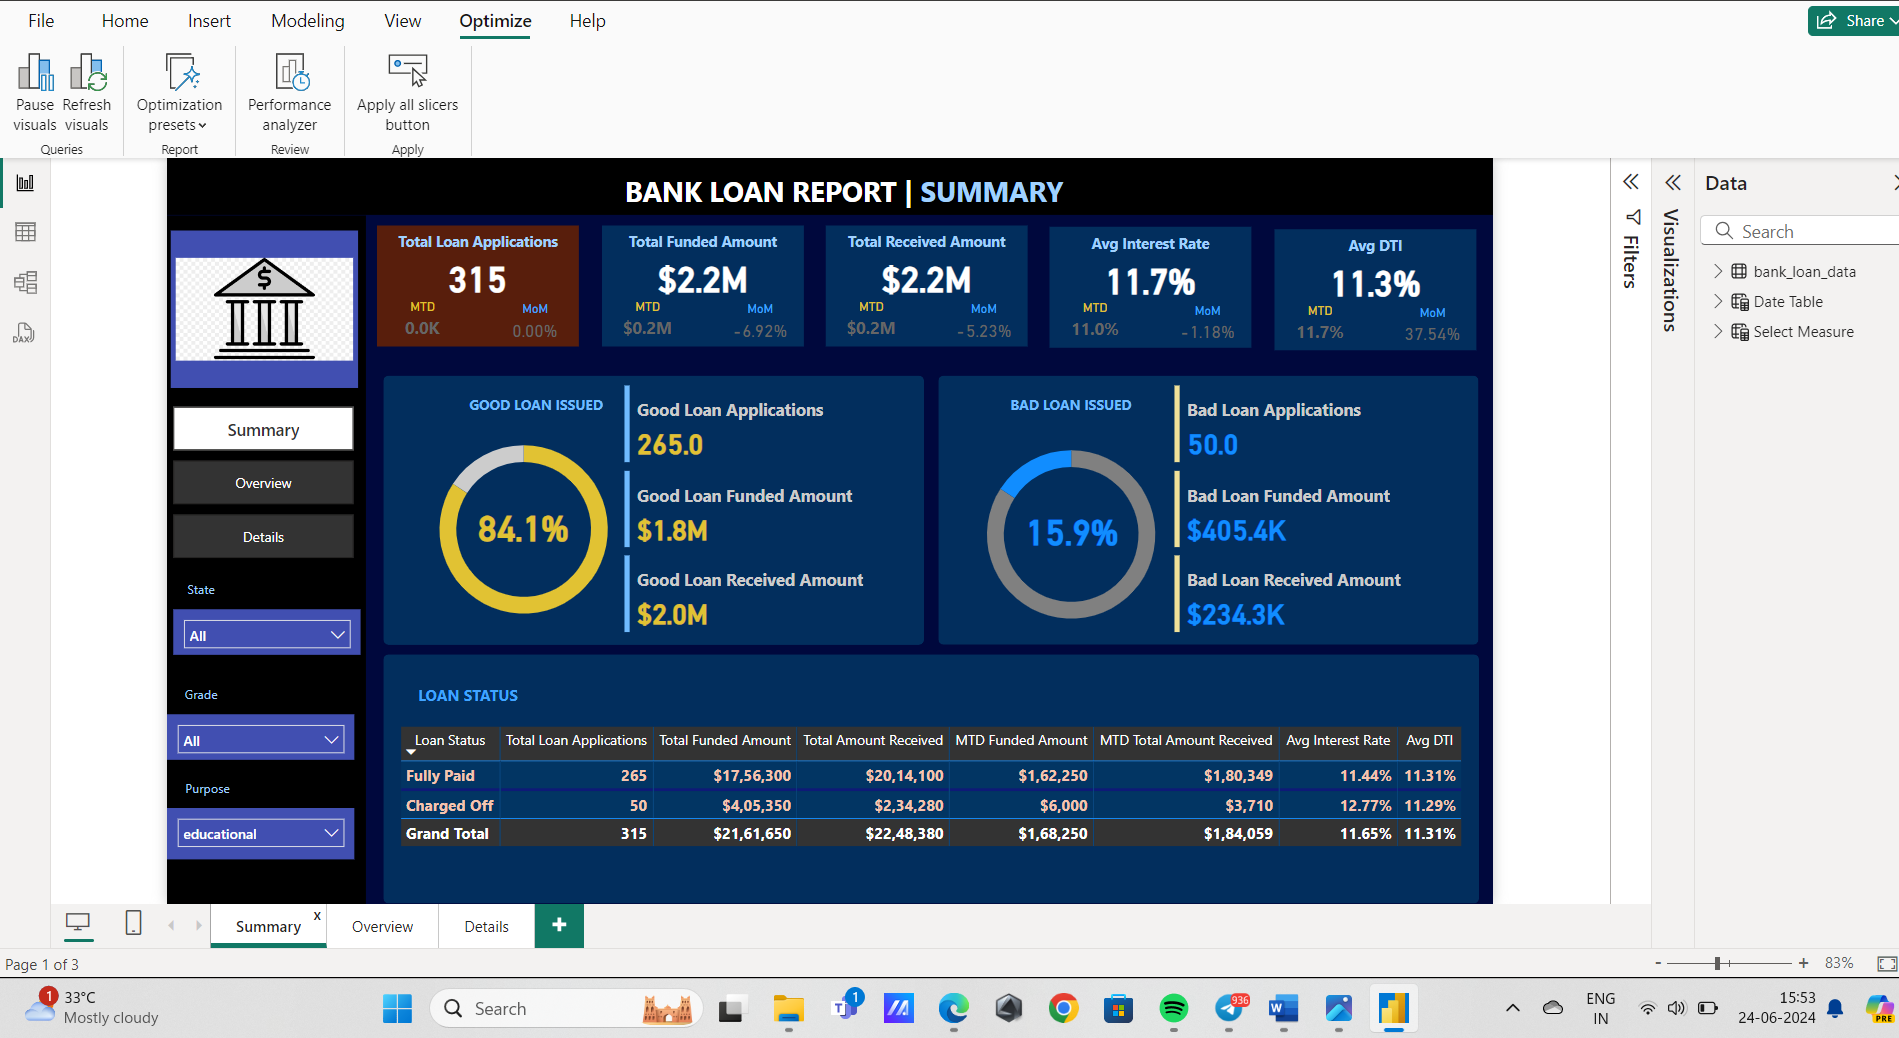

This screenshot's page, from the dashboard's own definition file:
{"tool":"powerbi","page":{"name":"Summary","canvas":[1280,720],"ordinal":0},"visuals":[{"type":"shape","box":[202.8,64.6,194.8,116.9],"z":0,"group":"g1"},{"type":"shape","box":[635.7,64.6,194.8,116.9],"z":0,"group":"g3"},{"type":"shape","box":[419.3,65.5,194.8,116.9],"z":0,"group":"g2"},{"type":"shape","box":[852.2,66.8,194.8,116.9],"z":0,"group":"g4"},{"type":"shape","box":[1068.6,68.6,194.8,116.9],"z":0,"group":"g5"},{"type":"shape","box":[208.6,210.4,522,260],"z":0},{"type":"shape","box":[0.3,0,1279.7,54.9],"z":1000},{"type":"card","fields":{"Values":["bank_loan_data.Total Loan Applications"]},"box":[202.8,85,194.8,59.3],"z":1000,"group":"g1"},{"type":"card","fields":{"Values":["bank_loan_data.Total Amount Received"]},"box":[635.7,85,194.8,59.3],"z":1000,"group":"g3"},{"type":"card","fields":{"Values":["bank_loan_data.Total Funded Amount"]},"box":[419.3,85.9,194.8,59.3],"z":1000,"group":"g2"},{"type":"card","fields":{"Values":["bank_loan_data.Avg Interest Rate"]},"box":[852.2,87.2,194.8,59.3],"z":1000,"group":"g4"},{"type":"card","fields":{"Values":["bank_loan_data.Avg DTI"]},"box":[1068.6,89,194.8,59.3],"z":1000,"group":"g5"},{"type":"shape","box":[0,54.9,192.1,665.2],"z":2000},{"type":"textbox","box":[202.8,65.5,194.8,38.1],"z":2000,"group":"g1"},{"type":"textbox","box":[635.7,65.5,194.8,38.1],"z":2000,"group":"g3"},{"type":"textbox","box":[419.3,66.4,194.8,38.1],"z":2000,"group":"g2"},{"type":"textbox","box":[852.2,67.7,194.8,38.1],"z":2000,"group":"g4"},{"type":"textbox","box":[1068.6,69.5,194.8,38.1],"z":2000,"group":"g5"},{"type":"card","title":"MTD","fields":{"Values":["bank_loan_data.MTD Loan Application"]},"box":[202.8,135.4,87.7,46.1],"z":3000,"group":"g1"},{"type":"card","title":"MTD","fields":{"Values":["bank_loan_data.MTD Total Amount Received"]},"box":[635.7,135.4,87.7,46.1],"z":3000,"group":"g3"},{"type":"card","title":"MTD","fields":{"Values":["bank_loan_data.MTD Funded Amount"]},"box":[419.3,136.3,87.7,46.1],"z":3000,"group":"g2"},{"type":"card","title":"MTD","fields":{"Values":["bank_loan_data.MTD Avg INT Rate"]},"box":[852.2,137.6,87.7,46.1],"z":3000,"group":"g4"},{"type":"card","title":"MTD","fields":{"Values":["bank_loan_data.MTD Avg DTI"]},"box":[1068.6,139.4,87.7,46.1],"z":3000,"group":"g5"},{"type":"card","fields":{"Values":["bank_loan_data.Good Loan %"]},"box":[279.1,325.7,130.8,59.5],"z":3000},{"type":"textbox","box":[436.6,8,448.1,46.9],"z":4000},{"type":"card","title":"MoM","fields":{"Values":["bank_loan_data.MoM Loan Applications"]},"box":[314.4,138.1,83.2,43.4],"z":4000,"group":"g1"},{"type":"card","title":"MoM","fields":{"Values":["bank_loan_data.MoM Total Received Amount"]},"box":[747.3,138.1,83.2,43.4],"z":4000,"group":"g3"},{"type":"card","title":"MoM","fields":{"Values":["bank_loan_data.MoM Total Funded Amount"]},"box":[530.9,139,83.2,43.4],"z":4000,"group":"g2"},{"type":"card","title":"MoM","fields":{"Values":["bank_loan_data.MoM Avg Int Rate"]},"box":[963.8,140.3,83.2,43.4],"z":4000,"group":"g4"},{"type":"card","title":"MoM","fields":{"Values":["bank_loan_data.MoM Avg DTI"]},"box":[1180.2,142.1,83.2,43.4],"z":4000,"group":"g5"},{"type":"group","id":"g1","title":"Group 1","box":[202.8,64.6,194.8,116.9],"z":5000},{"type":"group","id":"g2","title":"Group 2","box":[419.3,65.5,194.8,116.9],"z":6000},{"type":"group","id":"g3","title":"Group 2","box":[635.7,64.6,194.8,116.9],"z":7000},{"type":"group","id":"g4","title":"Group 2","box":[852.2,66.8,194.9,116.2],"z":8000},{"type":"group","id":"g5","title":"Group 2","box":[1068.6,68.6,194.9,116.2],"z":9000},{"type":"donutChart","fields":{"Category":["bank_loan_data.Good vs Bad Loan"],"Y":["bank_loan_data.Total Loan Applications"]},"box":[219.6,252.5,249.8,213.2],"z":10000},{"type":"shape","box":[744.8,210.4,521.5,259.8],"z":11000},{"type":"textbox","box":[273.6,224.2,164.7,32.9],"z":12000},{"type":"cardVisual","fields":{"Data":["bank_loan_data.Good Loan Applications","bank_loan_data.Good Loan Funded Amount","bank_loan_data.Good Loan Received Amount"]},"box":[436.4,215,289.1,249.8],"z":13000},{"type":"donutChart","fields":{"Category":["bank_loan_data.Good vs Bad Loan"],"Y":["bank_loan_data.Total Loan Applications"]},"box":[747.5,257.1,249.8,213.2],"z":14000},{"type":"textbox","box":[795.1,224.2,154.6,30.2],"z":15000},{"type":"card","fields":{"Values":["bank_loan_data.Bad Loan %"]},"box":[808.8,329.4,130.8,59.5],"z":16000},{"type":"shape","box":[208.6,479.4,1057.7,240.6],"z":17000},{"type":"cardVisual","fields":{"Data":["bank_loan_data.Bad Loan Applications","bank_loan_data.Bad Loan Funded Amount","bank_loan_data.Bad Loan Received Amount"]},"box":[968,215,289.1,249.8],"z":18000},{"type":"tableEx","fields":{"Values":["bank_loan_data.loan_status","bank_loan_data.Total Loan Applications","bank_loan_data.Total Funded Amount","bank_loan_data.Total Amount Received","bank_loan_data.MTD Funded Amount","bank_loan_data.MTD Total Amount Received","bank_loan_data.Avg Interest Rate","bank_loan_data.Avg DTI"]},"box":[219.9,543.5,1037.4,154.3],"z":19000},{"type":"textbox","box":[218.1,503.6,144.5,33.7],"z":20000},{"type":"slicer","fields":{"Values":["bank_loan_data.address_state"]},"box":[5.5,435.5,181.2,43.9],"z":21000},{"type":"textbox","box":[5.5,401.7,54,33.9],"z":22000},{"type":"slicer","fields":{"Values":["bank_loan_data.grade"]},"box":[0,537.1,181.2,43.9],"z":23000},{"type":"textbox","box":[5.5,503.2,54,33.9],"z":24000},{"type":"textbox","box":[6,593.6,66.4,33.8],"z":25000},{"type":"slicer","fields":{"Values":["bank_loan_data.purpose"]},"box":[0,627.6,181.2,49.4],"z":26000},{"type":"image","box":[3.6,70,181,152],"z":26001},{"type":"pageNavigator","box":[6,240.1,174.9,148.4],"z":26002}]}

Visuals, with their boxes on the page's 1280x720 design canvas (x1, y1, x2, y2). These are canvas units, not pixel positions in the 1899x1038 screenshot, which may show the page scaled, cropped or inside an application window:
shape: Rect(203, 65, 398, 182)
shape: Rect(636, 65, 830, 182)
shape: Rect(419, 66, 614, 182)
shape: Rect(852, 67, 1047, 184)
shape: Rect(1069, 69, 1263, 186)
shape: Rect(209, 210, 731, 470)
shape: Rect(0, 0, 1280, 55)
card - bank_loan_data.Total Loan Applications: Rect(203, 85, 398, 144)
card - bank_loan_data.Total Amount Received: Rect(636, 85, 830, 144)
card - bank_loan_data.Total Funded Amount: Rect(419, 86, 614, 145)
card - bank_loan_data.Avg Interest Rate: Rect(852, 87, 1047, 146)
card - bank_loan_data.Avg DTI: Rect(1069, 89, 1263, 148)
shape: Rect(0, 55, 192, 720)
textbox: Rect(203, 66, 398, 104)
textbox: Rect(636, 66, 830, 104)
textbox: Rect(419, 66, 614, 104)
textbox: Rect(852, 68, 1047, 106)
textbox: Rect(1069, 70, 1263, 108)
"MTD" card: Rect(203, 135, 290, 182)
"MTD" card: Rect(636, 135, 723, 182)
"MTD" card: Rect(419, 136, 507, 182)
"MTD" card: Rect(852, 138, 940, 184)
"MTD" card: Rect(1069, 139, 1156, 186)
card - bank_loan_data.Good Loan %: Rect(279, 326, 410, 385)
textbox: Rect(437, 8, 885, 55)
"MoM" card: Rect(314, 138, 398, 182)
"MoM" card: Rect(747, 138, 830, 182)
"MoM" card: Rect(531, 139, 614, 182)
"MoM" card: Rect(964, 140, 1047, 184)
"MoM" card: Rect(1180, 142, 1263, 186)
"Group 1" group: Rect(203, 65, 398, 182)
"Group 2" group: Rect(419, 66, 614, 182)
"Group 2" group: Rect(636, 65, 830, 182)
"Group 2" group: Rect(852, 67, 1047, 183)
"Group 2" group: Rect(1069, 69, 1264, 185)
donutChart - bank_loan_data.Good vs Bad Loan x bank_loan_data.Total Loan Applications: Rect(220, 252, 469, 466)
shape: Rect(745, 210, 1266, 470)
textbox: Rect(274, 224, 438, 257)
cardVisual - bank_loan_data.Good Loan Applications x bank_loan_data.Good Loan Funded Amount: Rect(436, 215, 726, 465)
donutChart - bank_loan_data.Good vs Bad Loan x bank_loan_data.Total Loan Applications: Rect(748, 257, 997, 470)
textbox: Rect(795, 224, 950, 254)
card - bank_loan_data.Bad Loan %: Rect(809, 329, 940, 389)
shape: Rect(209, 479, 1266, 720)
cardVisual - bank_loan_data.Bad Loan Applications x bank_loan_data.Bad Loan Funded Amount: Rect(968, 215, 1257, 465)
tableEx - bank_loan_data.loan_status x bank_loan_data.Total Loan Applications: Rect(220, 544, 1257, 698)
textbox: Rect(218, 504, 363, 537)
slicer - bank_loan_data.address_state: Rect(6, 436, 187, 479)
textbox: Rect(6, 402, 60, 436)
slicer - bank_loan_data.grade: Rect(0, 537, 181, 581)
textbox: Rect(6, 503, 60, 537)
textbox: Rect(6, 594, 72, 627)
slicer - bank_loan_data.purpose: Rect(0, 628, 181, 677)
image: Rect(4, 70, 185, 222)
pageNavigator: Rect(6, 240, 181, 388)
